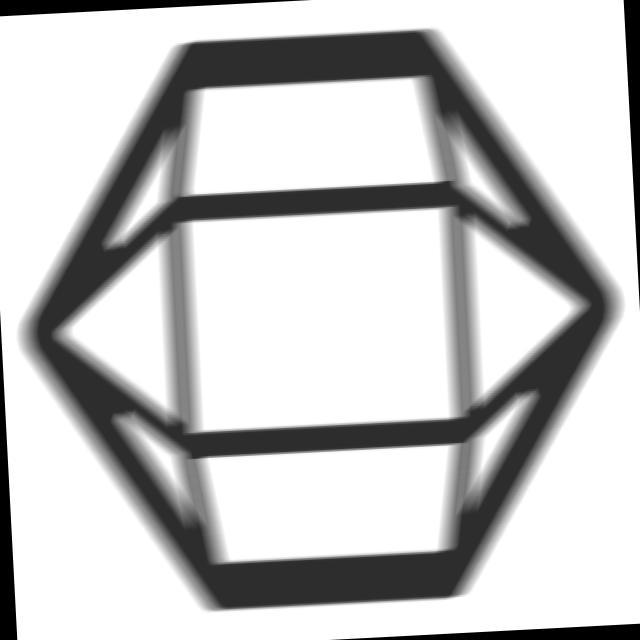crystal: (1, 4, 640, 640)
